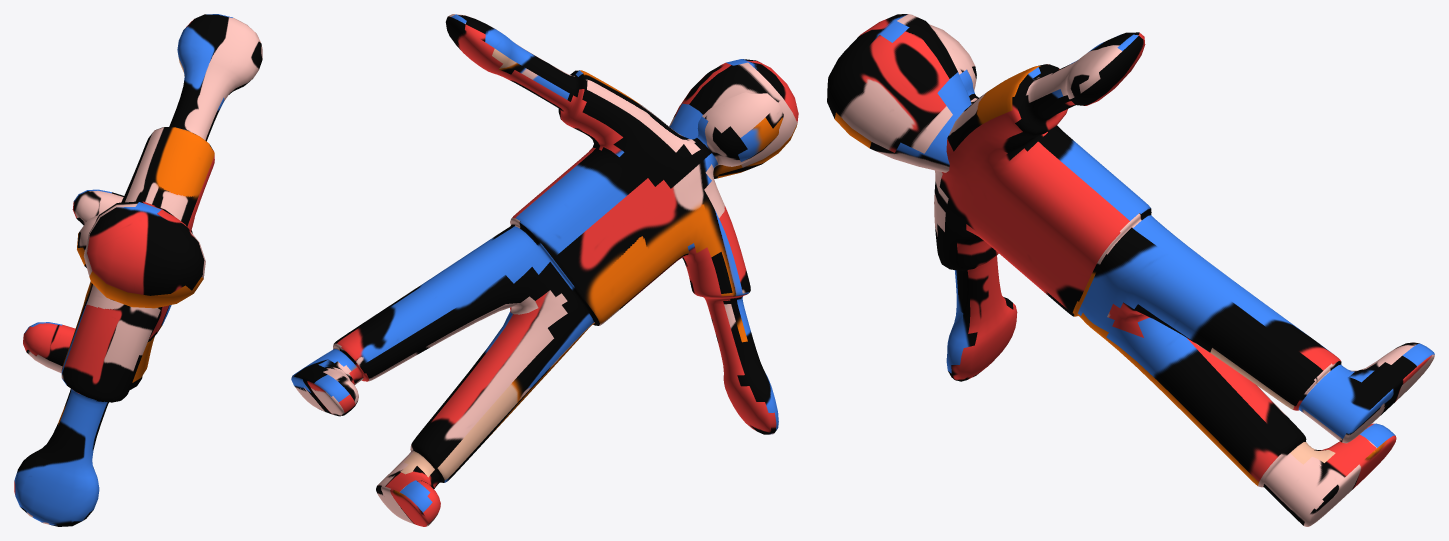
The model's file is kukla1.fbx.
3 renders of one model, left to right at view 1: azimuth 30°, elevation 25°; view 2: azimuth 150°, elevation 25°; view 3: azimuth 270°, elevation 25°, orthographic. The views are drawn at different scales.
Parts seen in each view (by area): view 1: kukla; view 2: kukla; view 3: kukla.
Boxes of the visible parts, x1=… form: kukla: x1=14, y1=14, x2=262, y2=526; kukla: x1=291, y1=14, x2=798, y2=526; kukla: x1=827, y1=14, x2=1434, y2=526.
Size of the model in its own units: 41.96 by 52.77 by 58.74.
